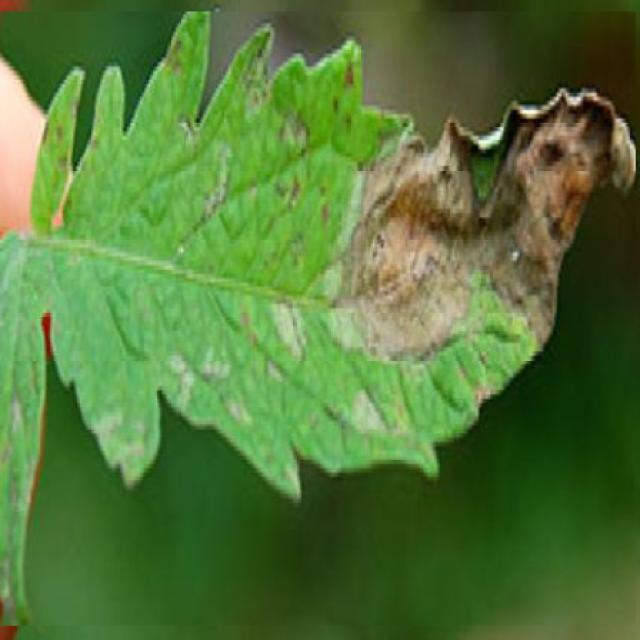Late Blight: (0, 12, 636, 627)
